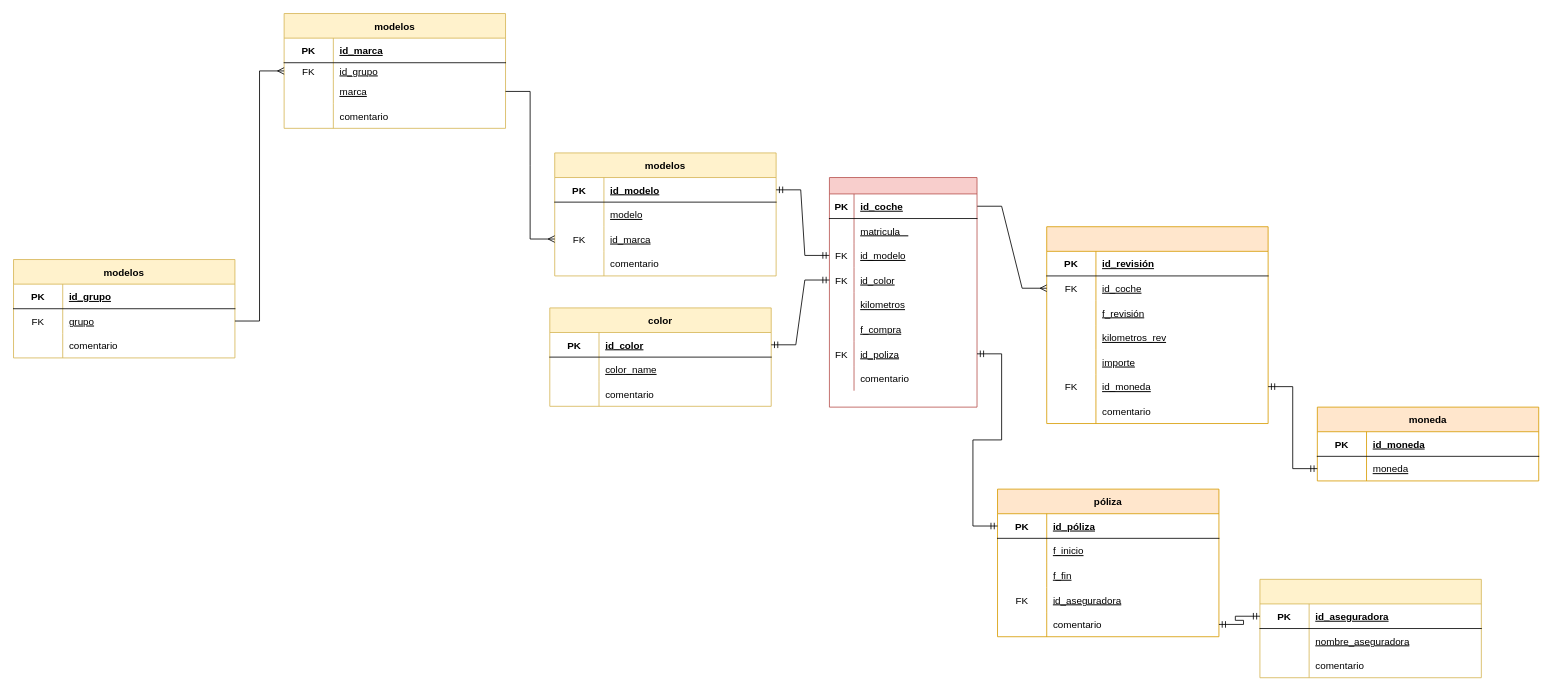
This 1552x691 diagram has some shape labels left out. Here are the shapes that lost their labels. From the top down, the box of each, then its label:
(829, 177, 977, 407): coches
(1046, 226, 1268, 424): revisiones
(1259, 579, 1481, 678): aseguradoras
